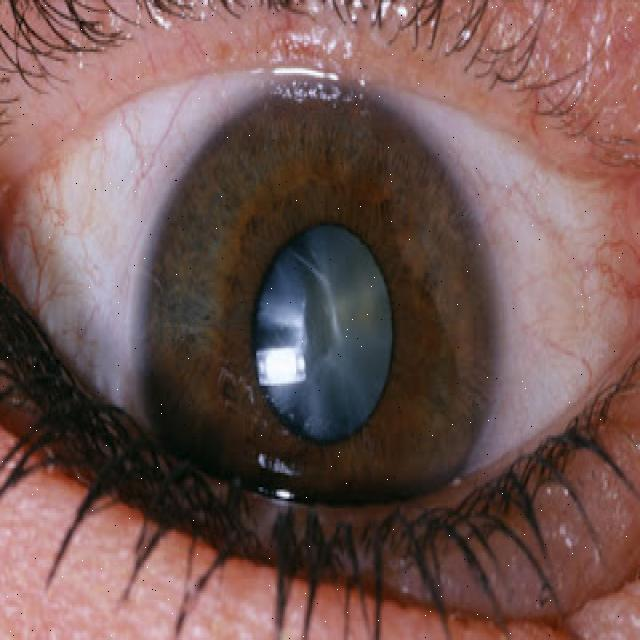Cataract: (145, 77, 499, 593)
